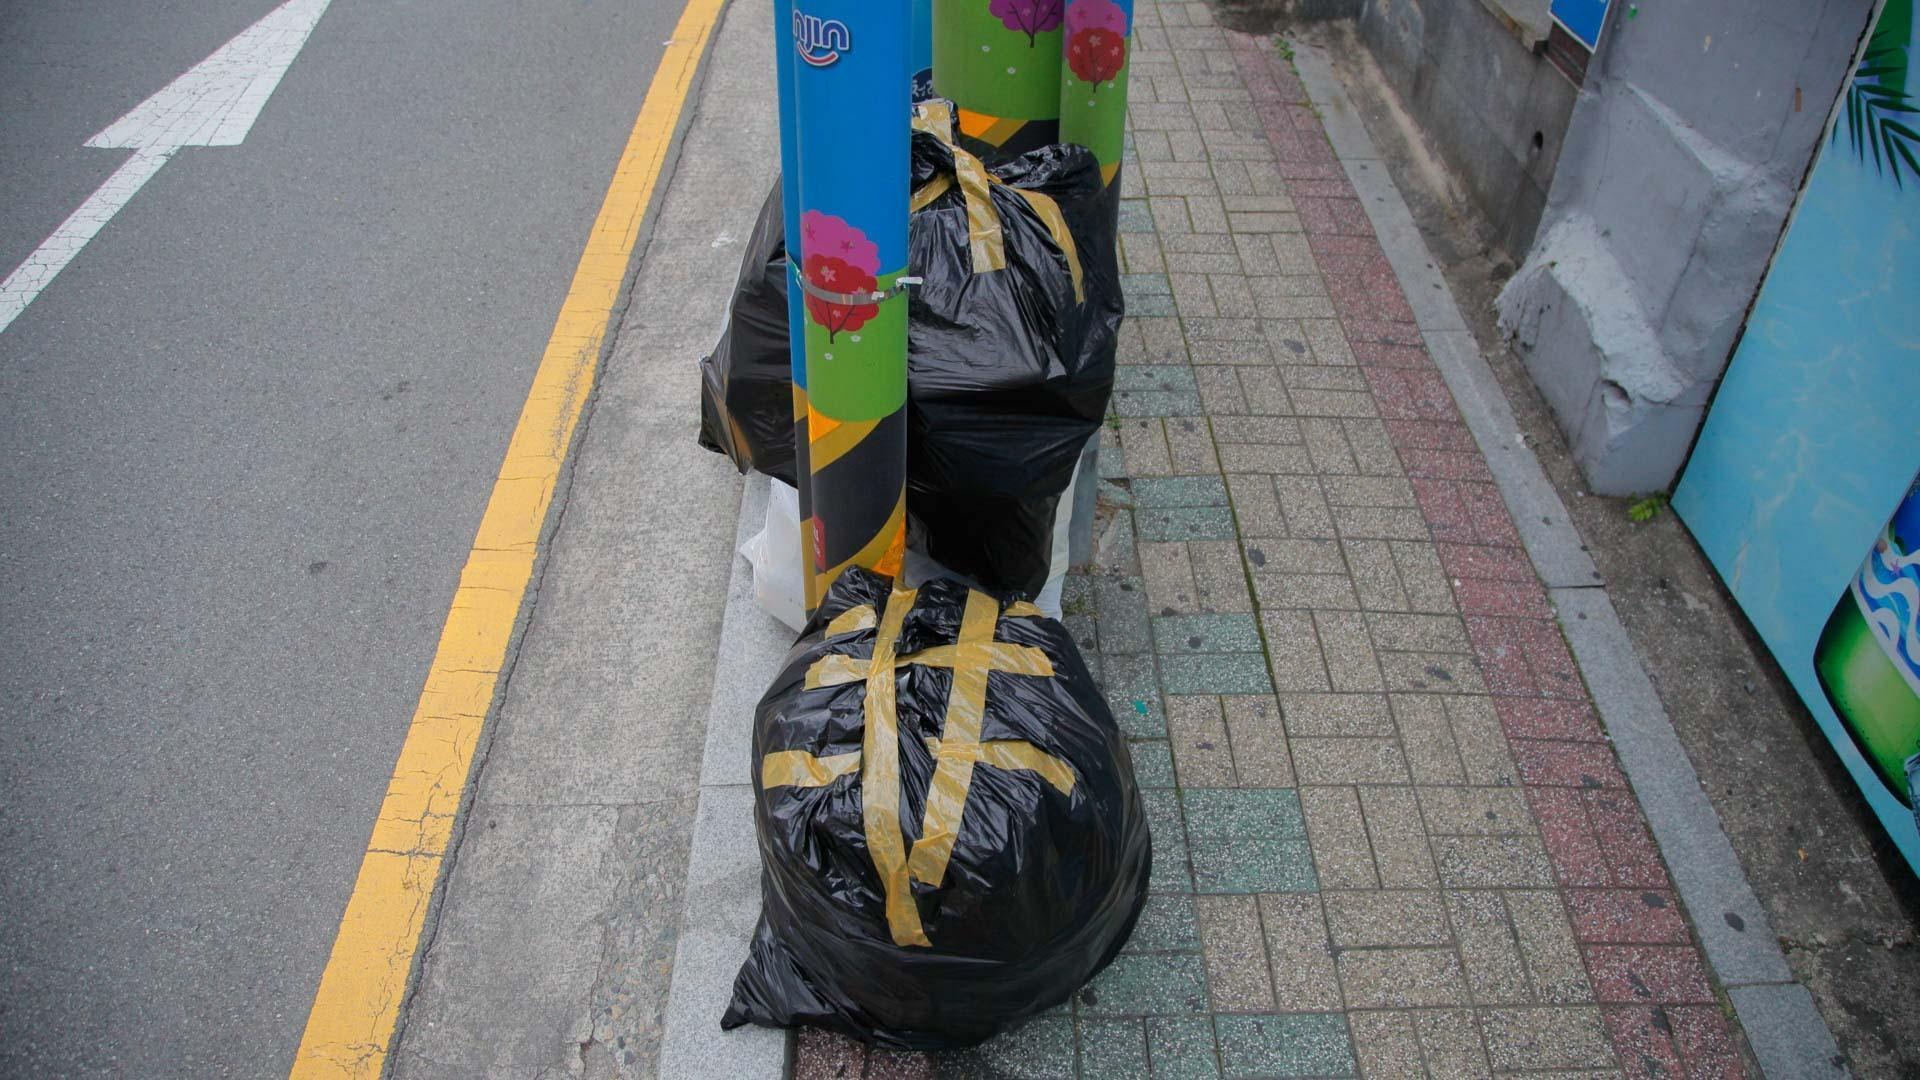black_bag: (688, 79, 1130, 616), (716, 556, 1168, 1056)
